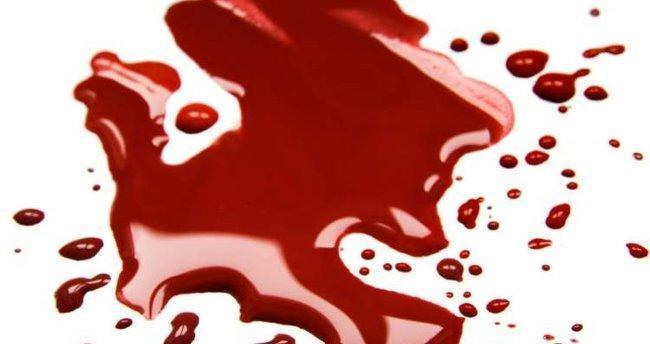Fire: (74, 1, 514, 343), (54, 274, 110, 313), (534, 68, 590, 102), (507, 49, 549, 76), (164, 313, 199, 344), (176, 103, 213, 132), (166, 313, 199, 344), (59, 239, 103, 260), (459, 197, 484, 229), (547, 203, 572, 228), (584, 44, 627, 58), (438, 258, 462, 282), (13, 209, 42, 226), (585, 86, 610, 100), (488, 299, 511, 314), (262, 334, 295, 344), (628, 243, 650, 258), (459, 303, 479, 318), (527, 151, 550, 164), (540, 135, 558, 150), (530, 238, 553, 249), (483, 31, 501, 44), (451, 38, 469, 51), (396, 262, 412, 272), (501, 155, 518, 164), (562, 169, 578, 178), (470, 265, 483, 276), (362, 250, 375, 260), (559, 103, 570, 113), (568, 180, 579, 190), (489, 221, 501, 230), (117, 320, 130, 328), (509, 190, 522, 198), (611, 139, 622, 148), (360, 267, 370, 276), (460, 250, 471, 258), (384, 262, 395, 270), (573, 324, 584, 332), (463, 291, 473, 298), (447, 292, 455, 298)
